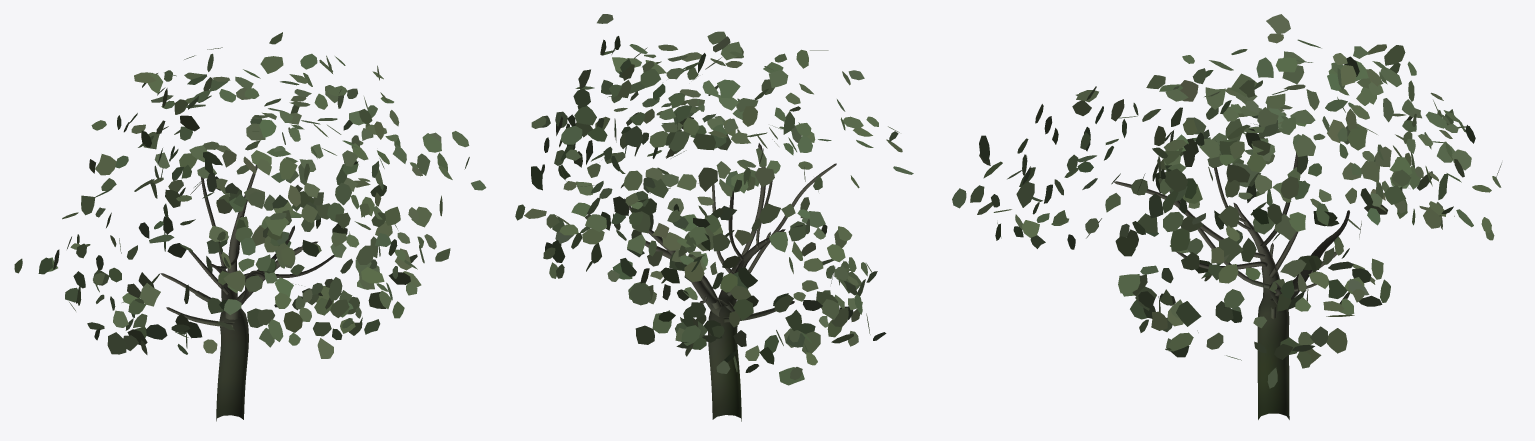
Rendered from SM_TreeFar_willow_2.glb.
3 views of the same model, side by side, from view 1: azimuth 30°, elevation 25°; view 2: azimuth 150°, elevation 25°; view 3: azimuth 270°, elevation 25° (orthographic). The views are drawn at different scales.
Visible parts, largest first — view 1: SM_TreeFar_willow_2; view 2: SM_TreeFar_willow_2; view 3: SM_TreeFar_willow_2.
Part boxes in pixels (x1,y1,x2,y2): SM_TreeFar_willow_2: [14, 32, 486, 421]; SM_TreeFar_willow_2: [515, 14, 913, 421]; SM_TreeFar_willow_2: [952, 14, 1501, 419].
Bounding box in the file's own units: 11.86 × 11.51 × 14.72.
